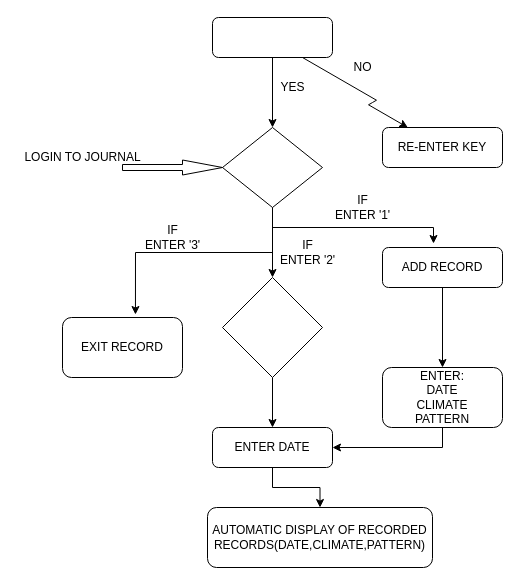
The diagram is 520 pixels wide and 585 high, and some of its shapes have lost their labels. The centre of each missing label's shape, as x and y in pixels:
"ENTER KEY" goes at [272,37].
"ENTER THE CHOICE" goes at [272,167].
"VIEW RECORD" goes at [272,327].
